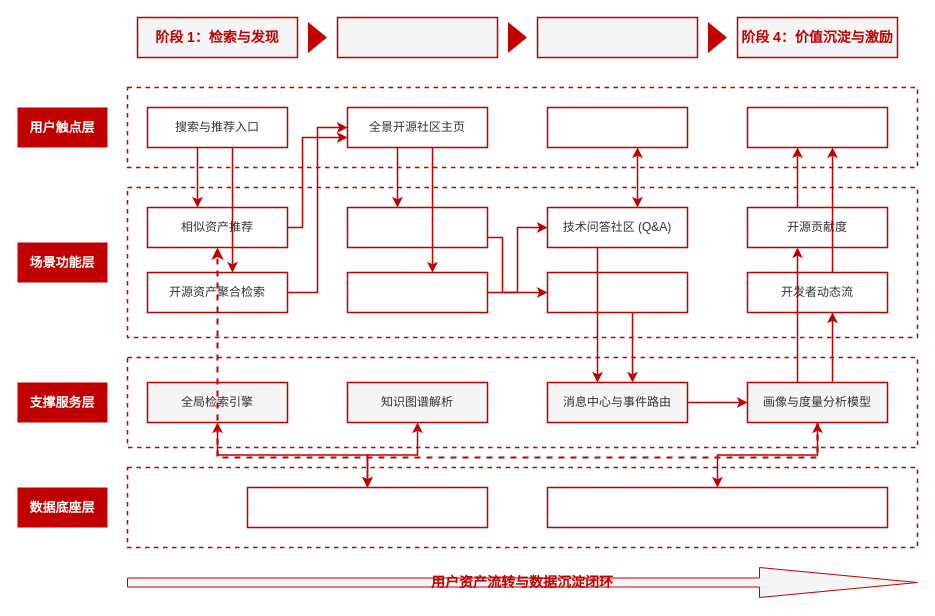
This 935x616 diagram has some shape labels left out. The shapes that lost their labels are listed below. From the top down, each one's box as (x1, y1, x2, y2) in pixels, then its label:
(336, 16, 498, 58): 阶段 2：浏览与评估
(536, 16, 698, 58): 阶段 3：互动与交流
(546, 106, 688, 148): 社区互动交流区
(746, 106, 888, 148): 个人 / 组织主页
(346, 206, 488, 248): 优秀开源项目橱窗
(346, 271, 488, 313): 项目 Wiki 与技术文档
(546, 271, 688, 313): 评论 / 点赞
(246, 486, 488, 528): 统一内部开源图谱库
(546, 486, 888, 528): 用户画像与互动明细库
